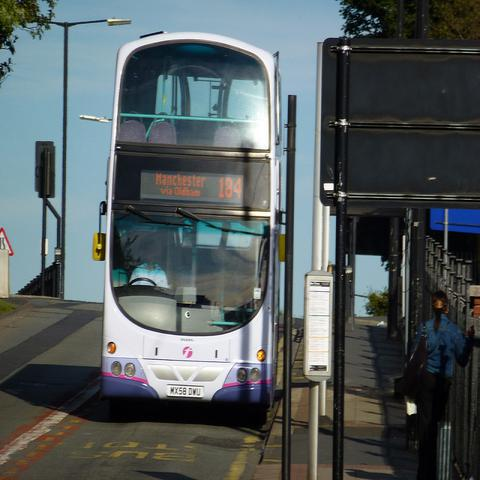bus: (94, 39, 279, 417)
